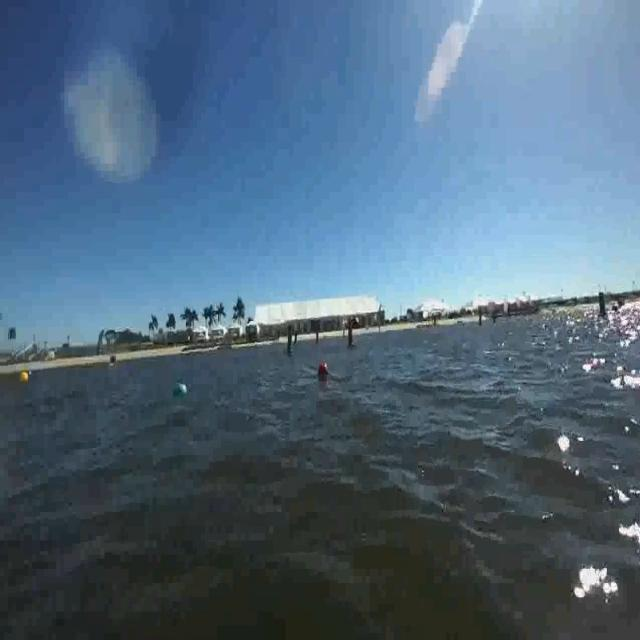green-buoy: (170, 378, 188, 403)
green-column-buoy: (285, 330, 294, 357)
red-buoy: (318, 361, 328, 375)
yellow-buoy: (19, 367, 29, 384)
